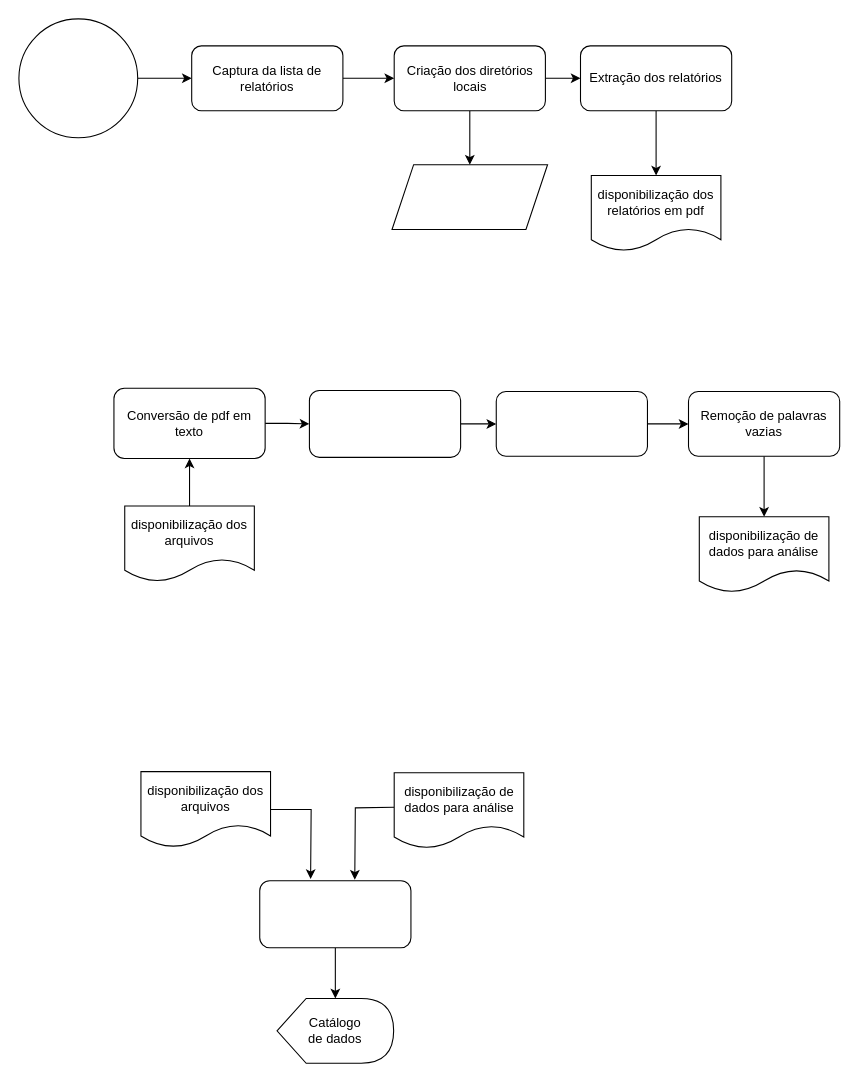
Some shapes in this 859 by 1082 pixel diagram are drawn without their labels. The shapes that lost their labels are listed below. From the top down, each one's centre as x and y in pixels, then its label:
At (x=78, y=78): "Origem dos relatórios financeiros (CVM)".
At (x=469, y=197): "/ nome da empresa / ano de publicação / tipo de relatório".
At (x=384, y=423): "Padronização do texto".
At (x=571, y=423): "Criação de tokens".
At (x=335, y=914): "Catalogação dos arquivos e dados".
